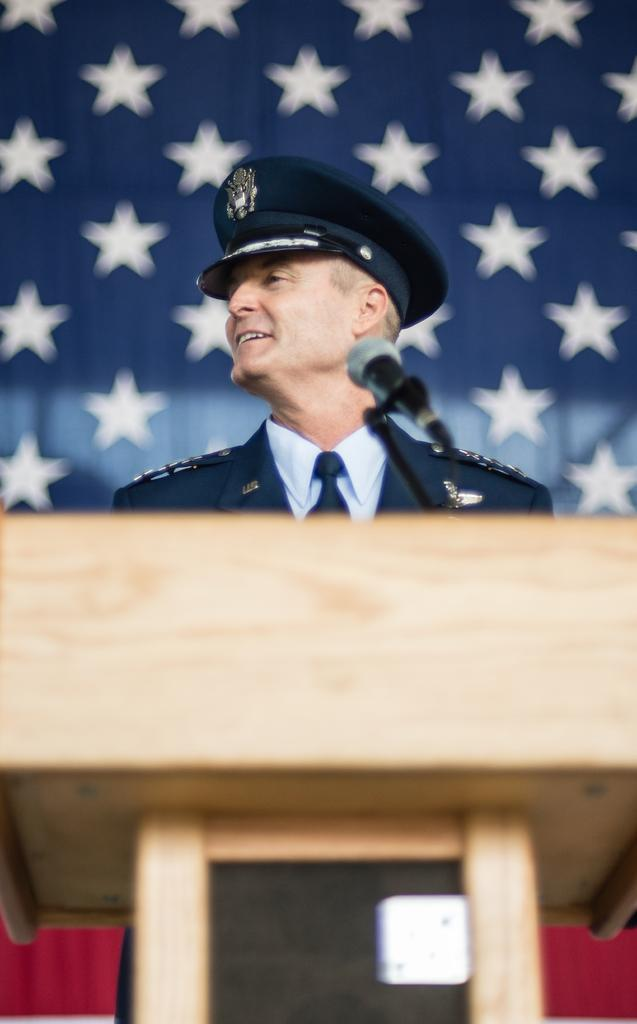Hat: (202, 152, 448, 324)
